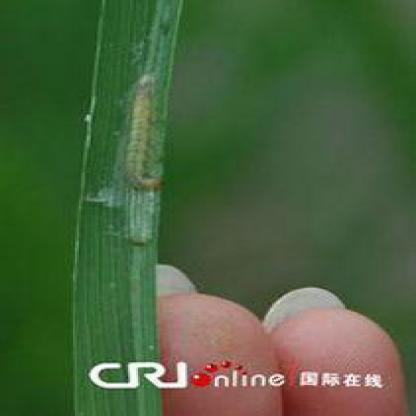leaf-folder: (115, 62, 182, 204)
